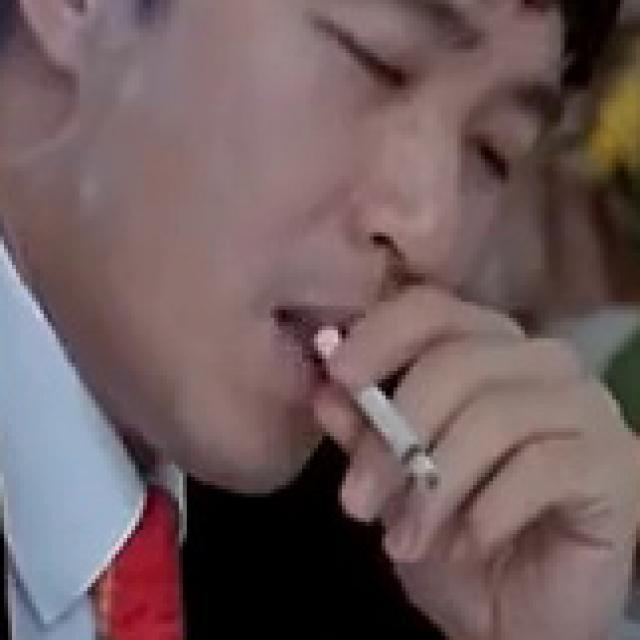smoking: (315, 326, 444, 491)
